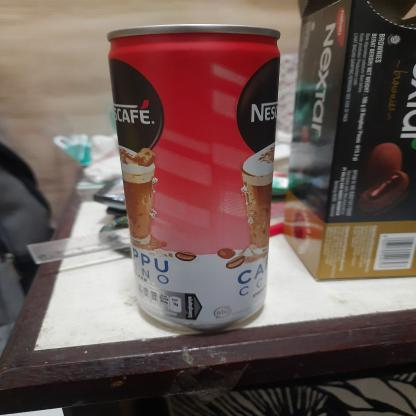can: (107, 24, 284, 340)
